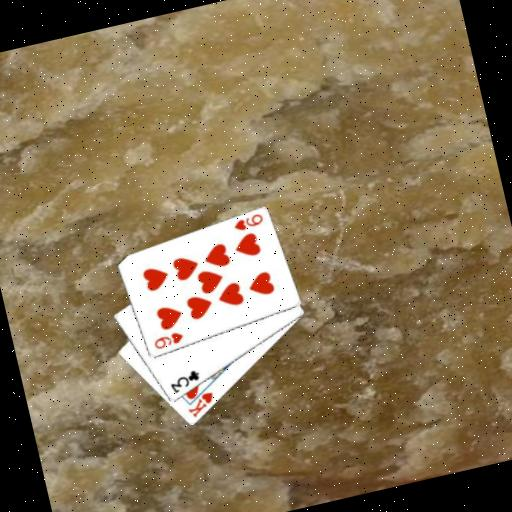3C: (165, 367, 204, 397)
9H: (149, 328, 186, 352), (229, 210, 266, 234)
KH: (182, 388, 219, 421)
